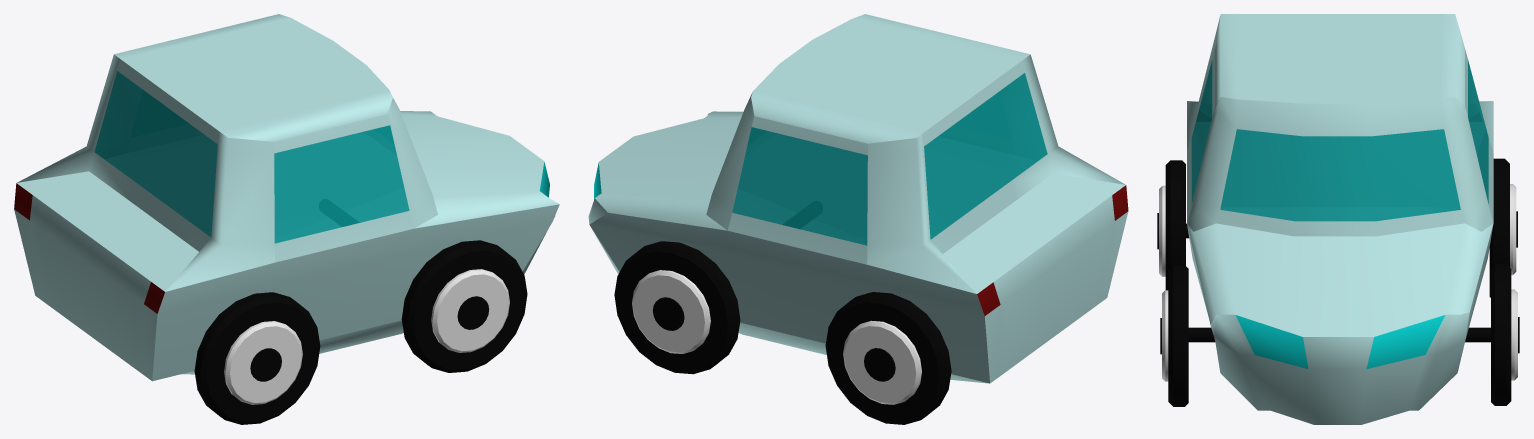
File: CarOne.fbx
3 views of the same model, side by side, from view 1: azimuth 30°, elevation 25°; view 2: azimuth 150°, elevation 25°; view 3: azimuth 270°, elevation 25° (orthographic). The views are drawn at different scales.
Visible parts, largest first — view 1: pCube42, pCylinder6, pCylinder7; view 2: pCube42, pCylinder8, pCylinder9; view 3: pCube42, pCylinder7, pCylinder8, pCylinder6, pCylinder9, pCylinder11.
Part boxes in pixels (left/top/right/bottom): pCube42: left=14, top=14, right=559, bottom=381; pCylinder6: left=194, top=292, right=320, bottom=424; pCylinder7: left=401, top=240, right=527, bottom=372; pCube42: left=588, top=14, right=1128, bottom=383; pCylinder8: left=614, top=241, right=740, bottom=374; pCylinder9: left=825, top=292, right=951, bottom=424; pCube42: left=1187, top=14, right=1493, bottom=424; pCylinder7: left=1160, top=265, right=1188, bottom=406; pCylinder8: left=1491, top=264, right=1519, bottom=405; pCylinder6: left=1157, top=160, right=1185, bottom=290; pCylinder9: left=1489, top=158, right=1517, bottom=297; pCylinder11: left=1188, top=327, right=1490, bottom=342.
Size of the model in its own units: 1.09 by 0.6242 by 0.737.
